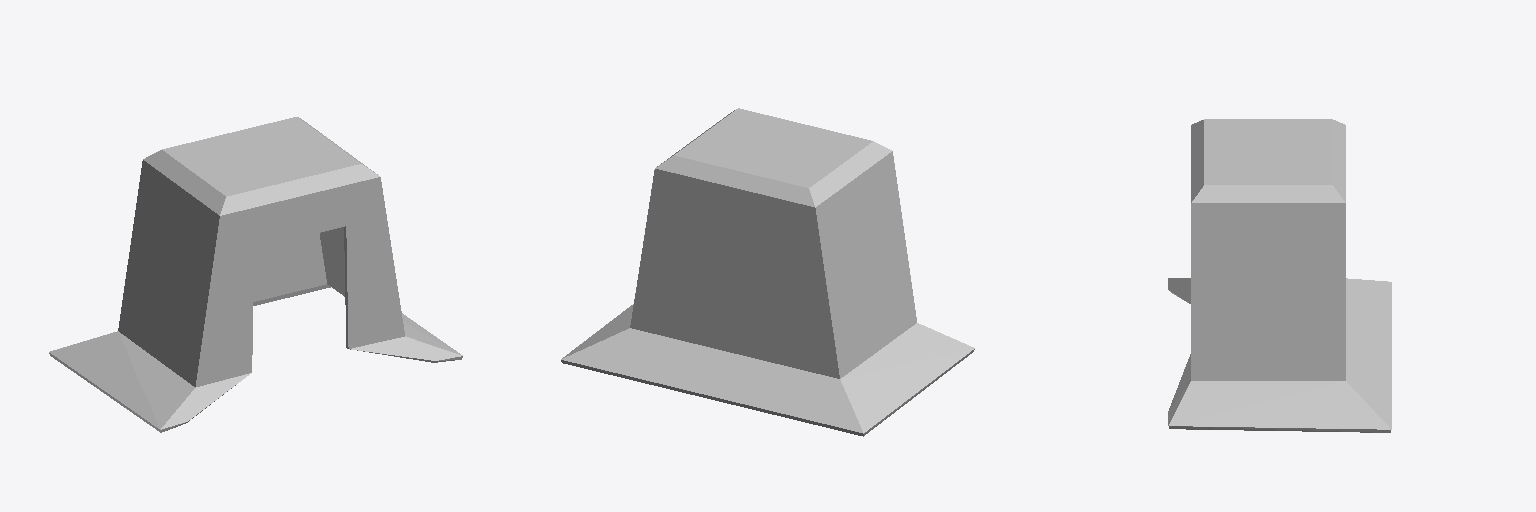
File: hat.obj
3 renders of one model, left to right at view 1: azimuth 30°, elevation 25°; view 2: azimuth 150°, elevation 25°; view 3: azimuth 270°, elevation 25°, orthographic.
Parts seen in each view (by area): view 1: 平面.001; view 2: 平面.001; view 3: 平面.001.
Part boxes in pixels (x1,y1,x2,y2): 平面.001: (49, 117, 462, 432); 平面.001: (561, 108, 974, 436); 平面.001: (1168, 119, 1391, 432).
Size of the model in its own units: 3.85 by 2.52 by 2.46.